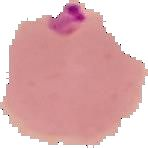parasitized: (12, 5, 143, 148), (37, 2, 91, 40)
